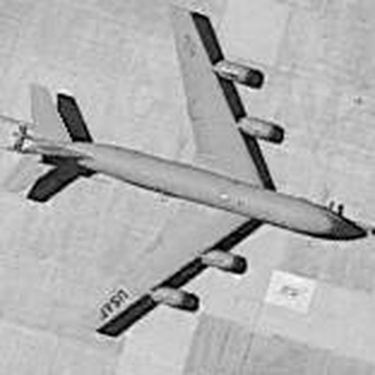airplane: (8, 4, 367, 358)
